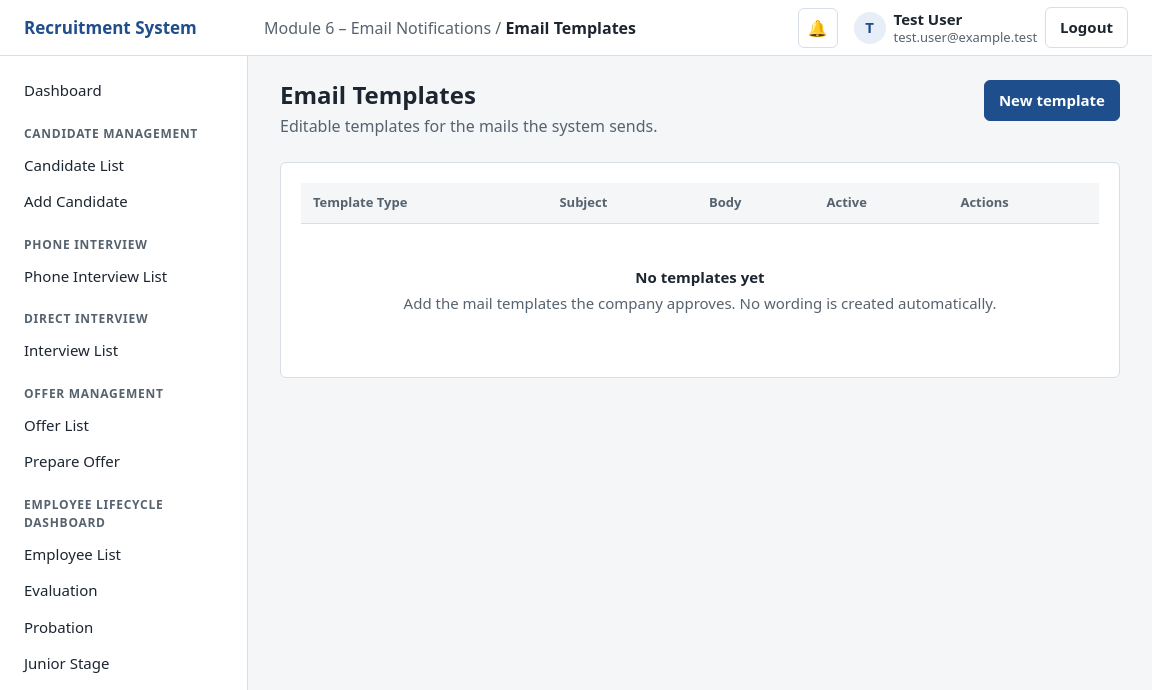
it: email templates › shows a backend refusal next to the field and saves nothing
The image size is (1152, 690).
expect the text "No templates yet" is shown: met, box [635,266,765,286]
Click the button "New template": (1052, 100) [984,80,1120,120]
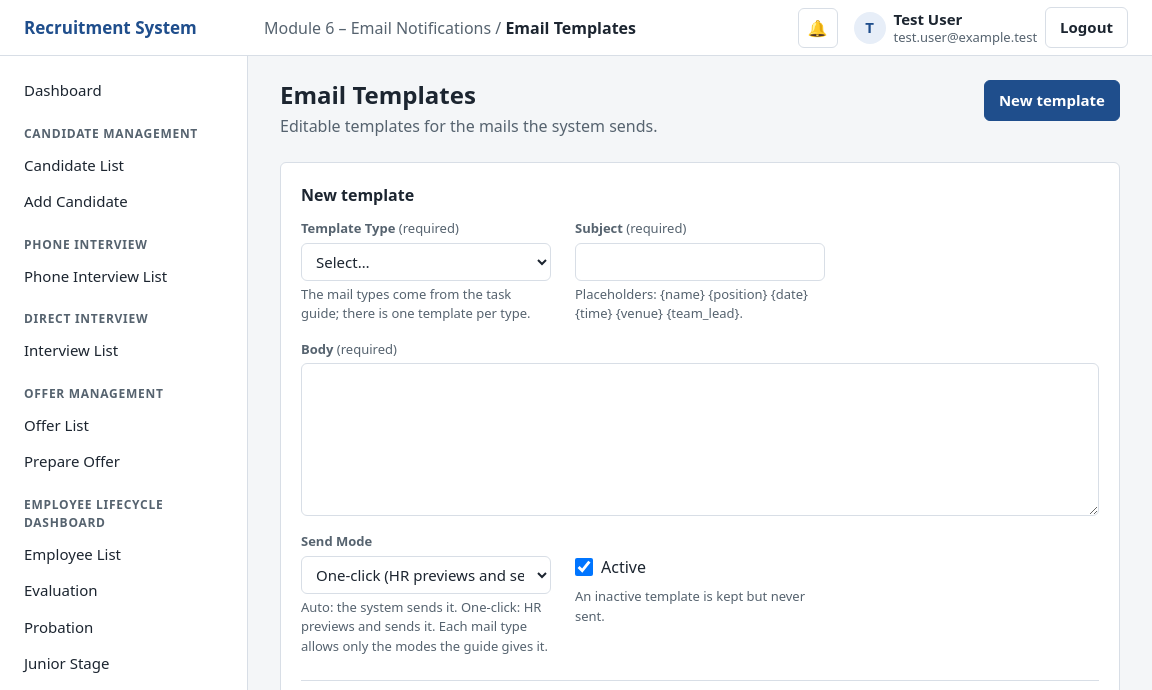
Select "Team Lead candidate summary / interview slot" in the dropdown labelled "Template Type (required)": (426, 262) [301,242,551,280]
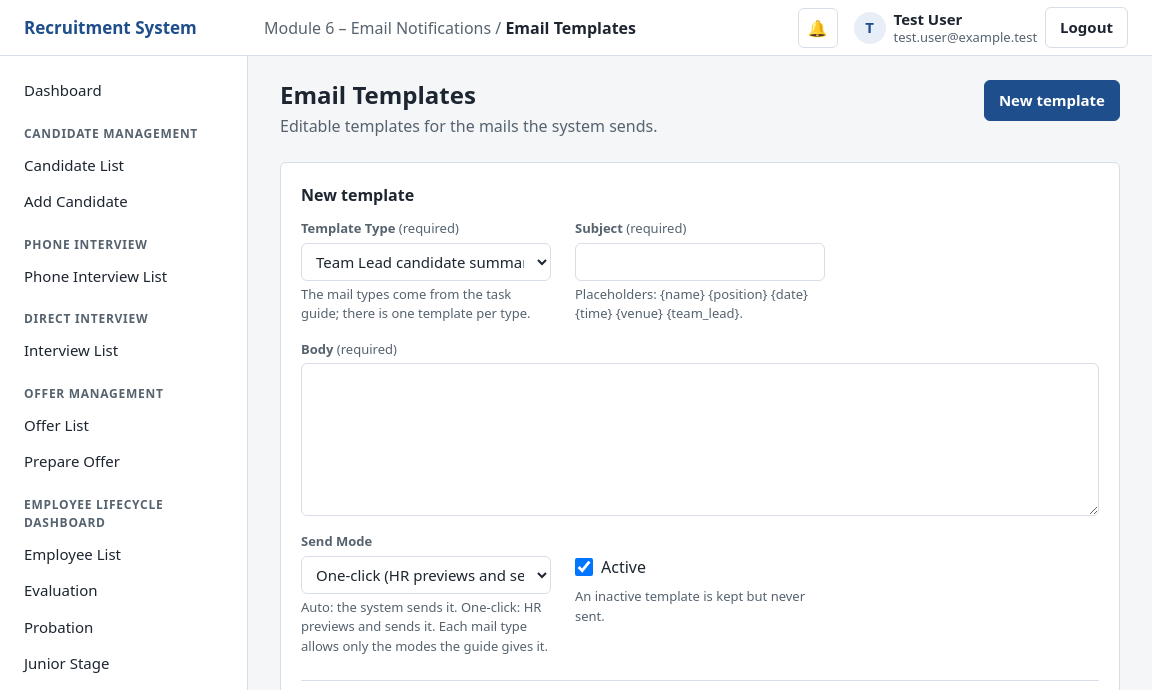
In the field labelled "Subject (required)": (700, 262) [575,242,825,280], type "S"
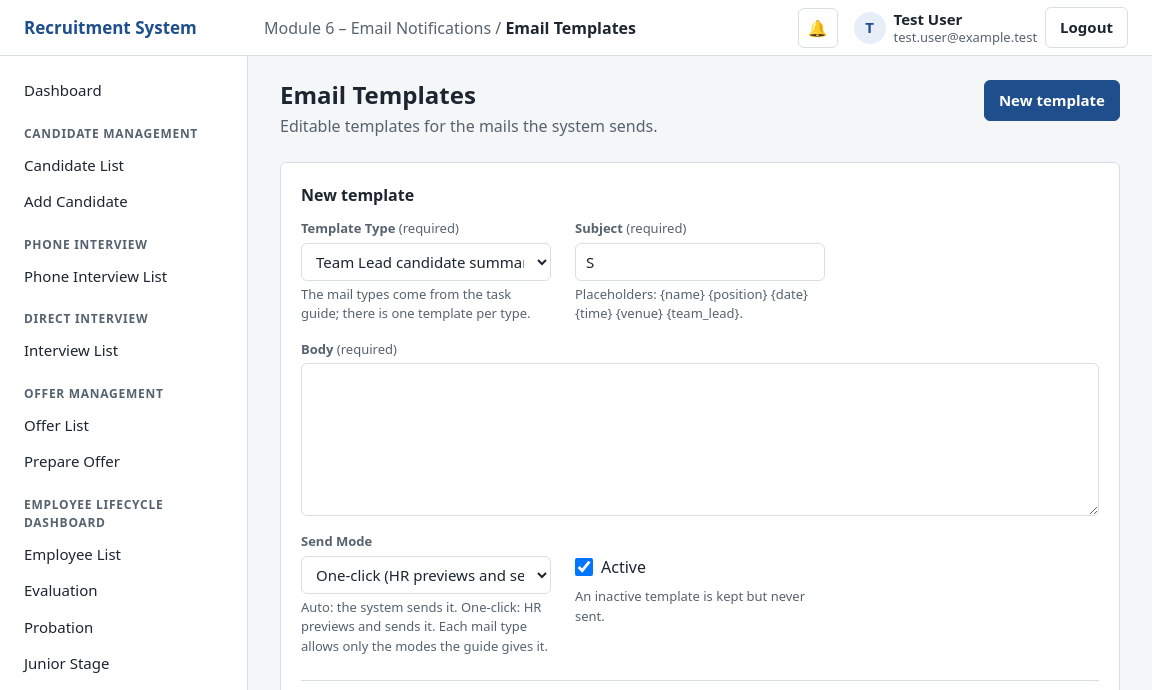
In the text box labelled "Body (required)": (700, 440) [301,363,1099,516], type "B"
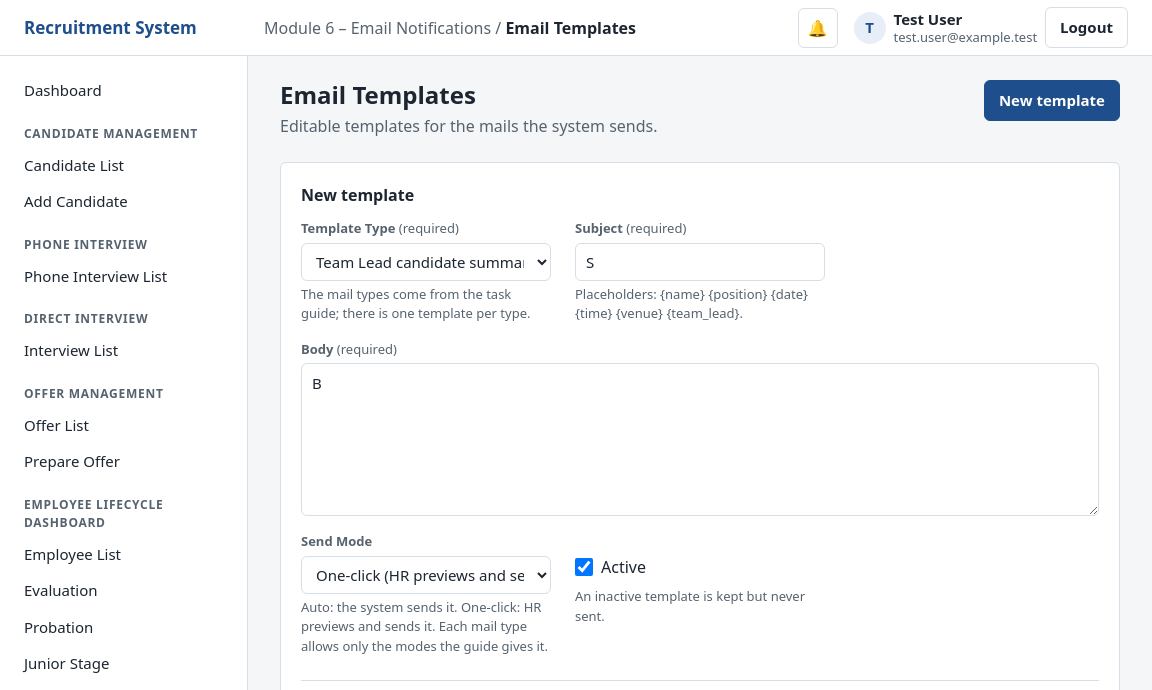
Clear the field labelled "Subject (required)": (700, 262) [575,242,825,280]
(page scrolled)
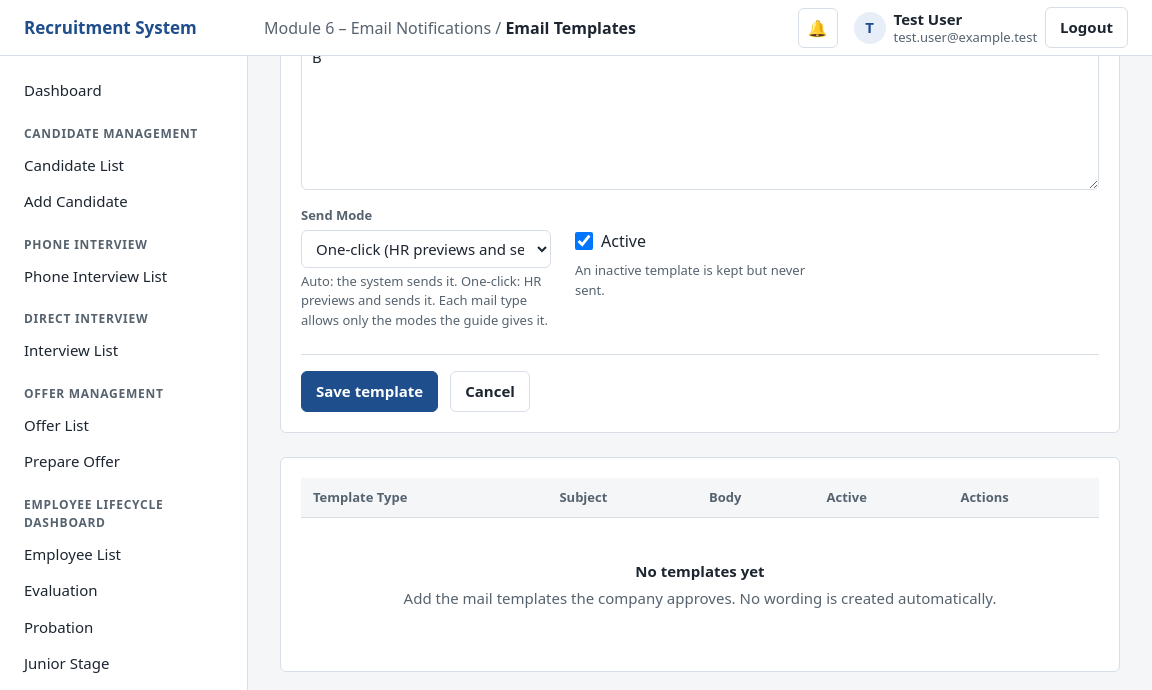
Click the button "Save template": (370, 391) [301,371,438,412]
(page scrolled)
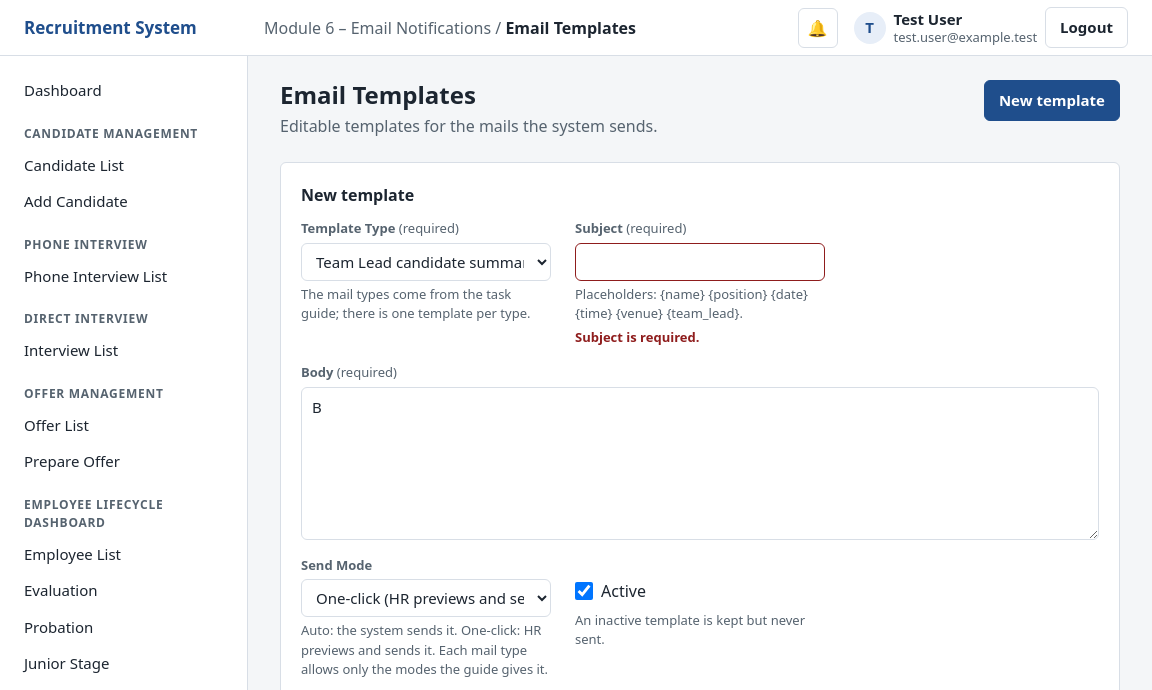
expect the text "Subject is required." is shown: met, box [575,328,699,346]
